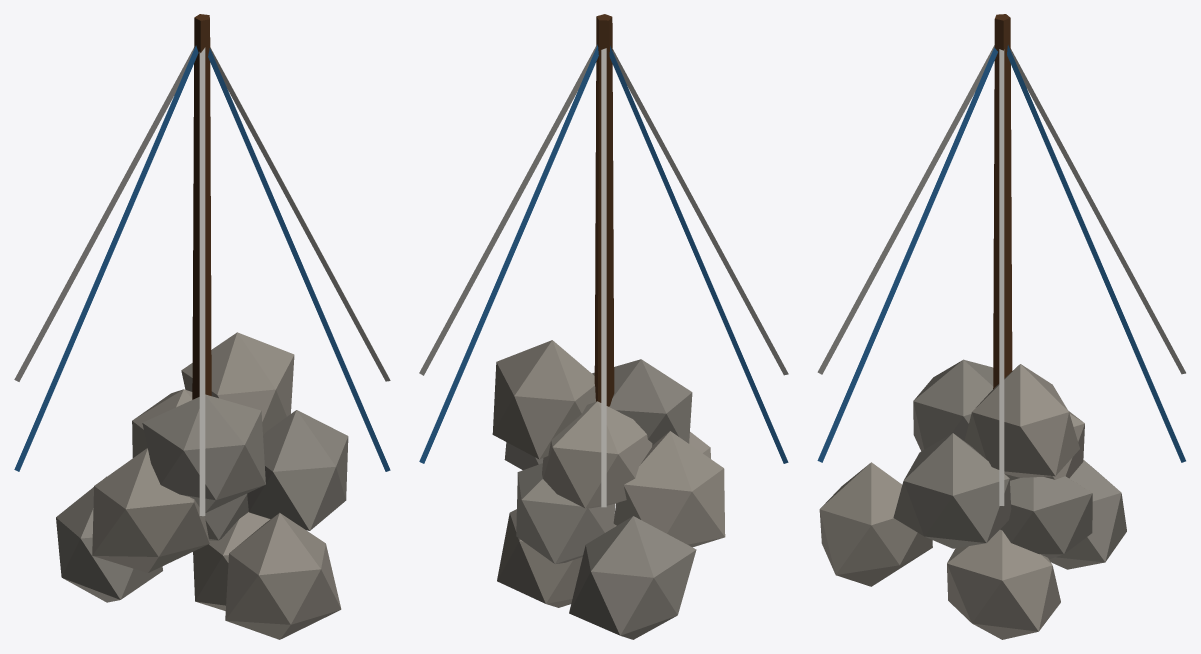
File: orc_landmark.glb
3 renders of one model, left to right at view 1: azimuth 30°, elevation 25°; view 2: azimuth 150°, elevation 25°; view 3: azimuth 270°, elevation 25°, orthographic. The views are drawn at different scales.
Parts seen in each view (by area): view 1: orc_landmark; view 2: orc_landmark; view 3: orc_landmark.
Part boxes in pixels (<box>): orc_landmark: <box>14,14,390,639</box>; orc_landmark: <box>419,14,788,639</box>; orc_landmark: <box>817,14,1185,639</box>.
Bounding box in the file's own units: 2.02 × 3.15 × 1.76.
